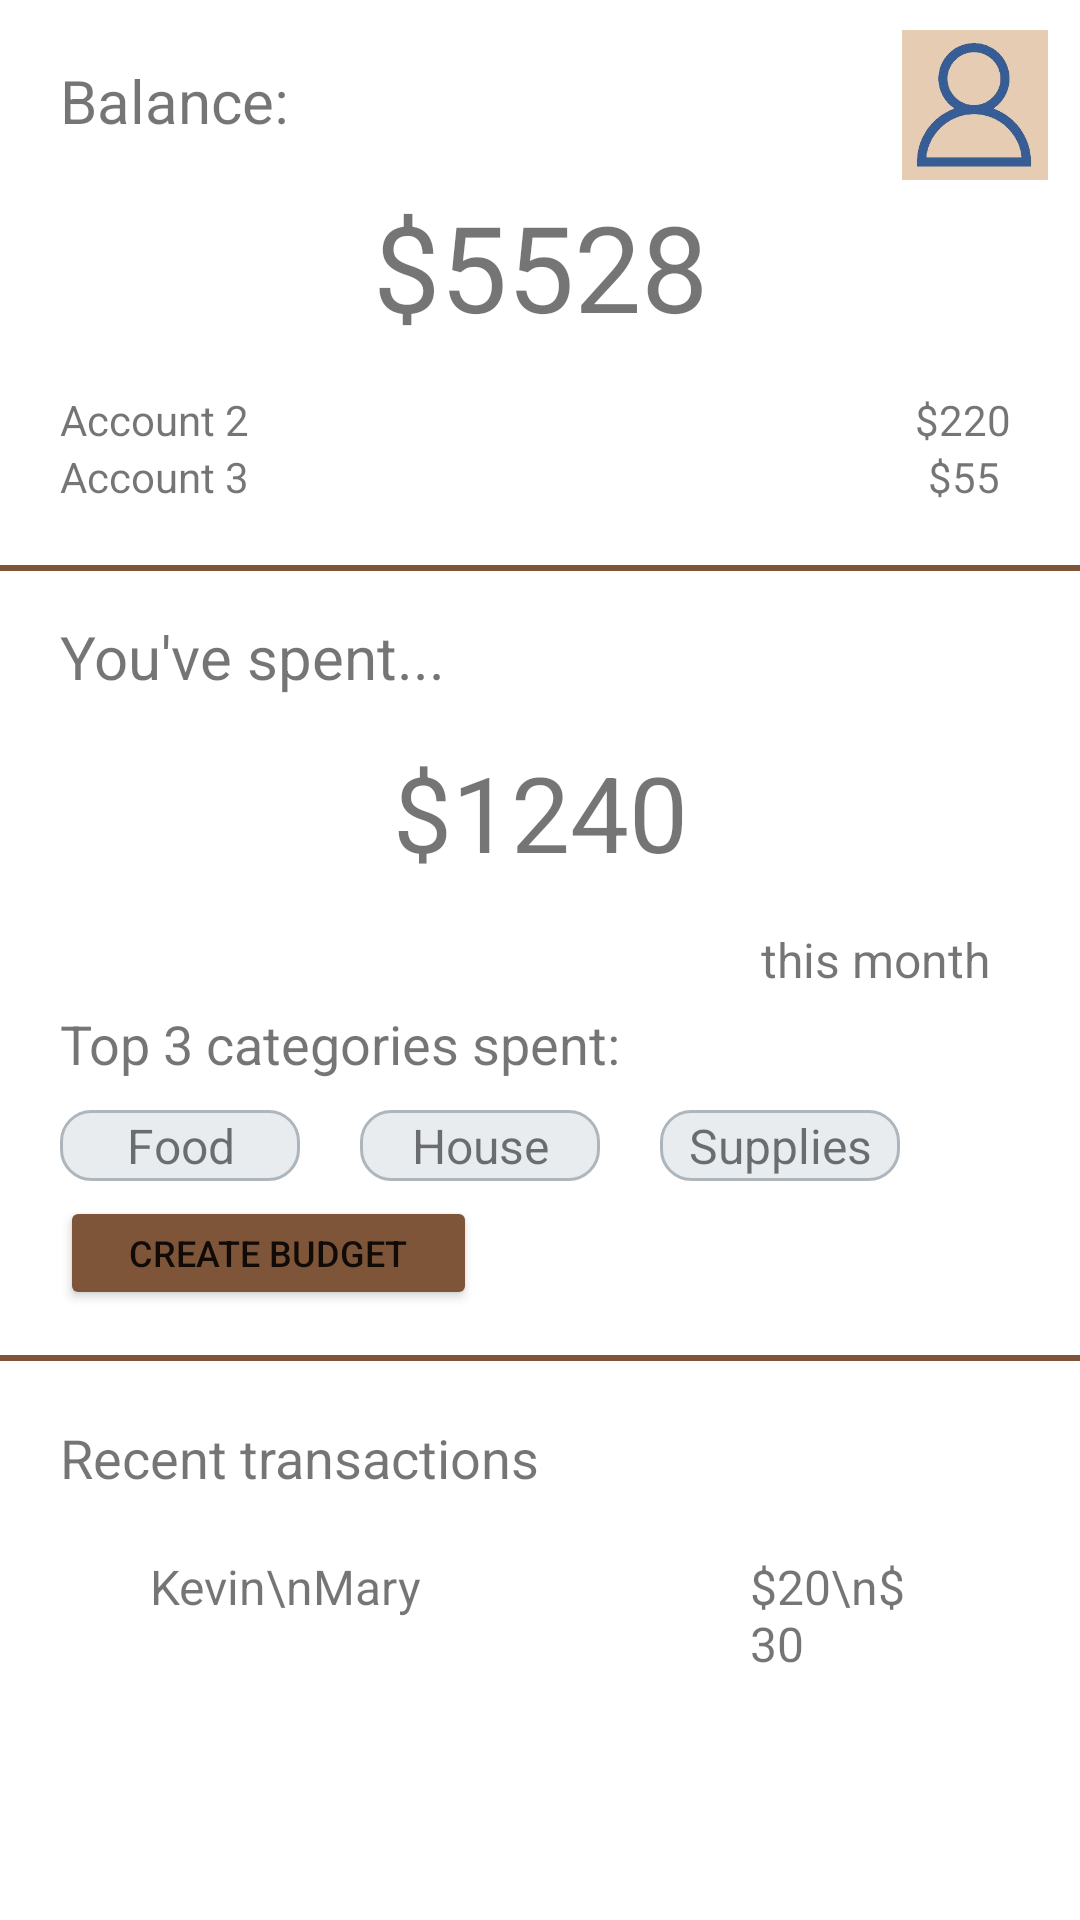

Icons on this 1080w x 1920h Android screen, each with the point to tap as (x,y):
profile: (975,105)
